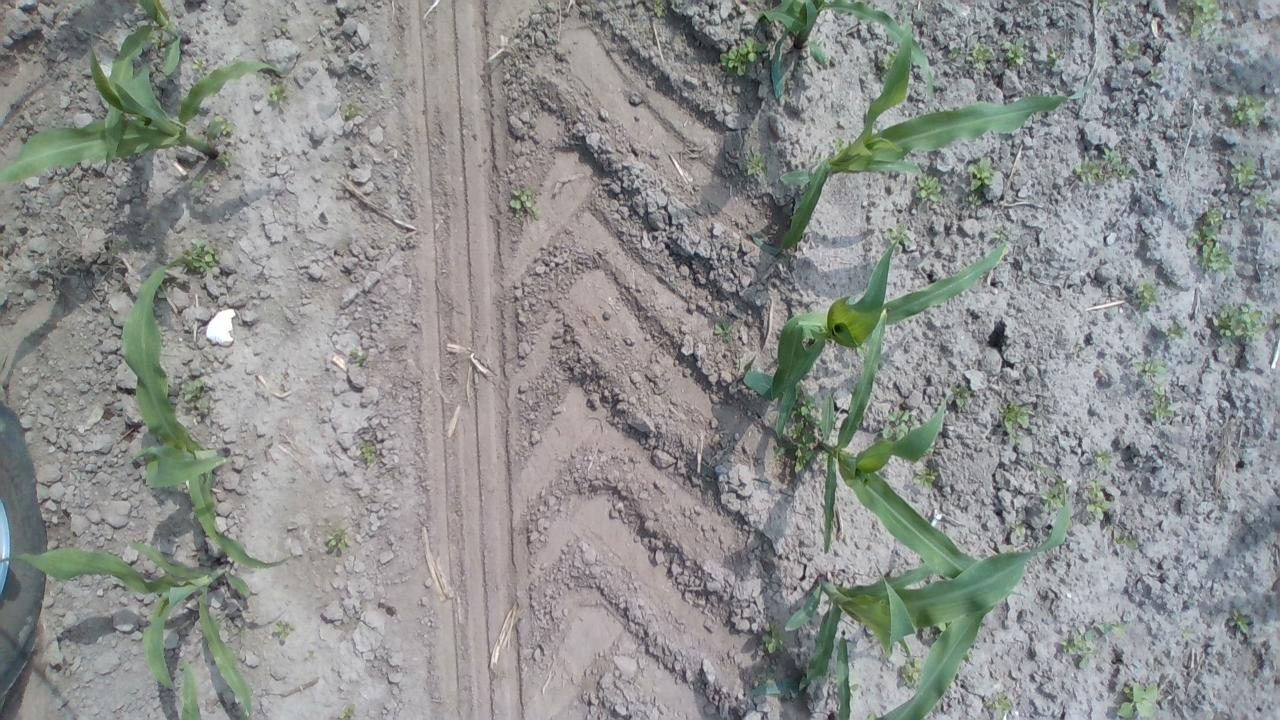Maize: (750, 5, 1099, 257), (754, 457, 1074, 696), (818, 308, 1026, 598), (741, 226, 1008, 438), (120, 256, 293, 569), (0, 539, 255, 720), (0, 44, 284, 187), (829, 605, 996, 720), (756, 0, 934, 101), (105, 0, 193, 176), (175, 657, 203, 720)
Weeds: (1060, 618, 1132, 674), (1184, 202, 1232, 276), (1212, 299, 1271, 343), (1072, 144, 1133, 184), (716, 34, 766, 77), (1117, 677, 1162, 720), (1176, 1, 1224, 40), (774, 434, 820, 474), (1226, 92, 1268, 130), (188, 238, 221, 276), (1085, 478, 1111, 520), (1131, 356, 1167, 386), (508, 186, 538, 222), (968, 153, 996, 190), (880, 406, 910, 439), (1150, 384, 1176, 422), (1130, 276, 1158, 311), (1230, 157, 1258, 192), (1001, 400, 1033, 430), (759, 620, 788, 652), (796, 388, 820, 426), (1000, 38, 1026, 70), (970, 40, 996, 72), (914, 174, 942, 202), (986, 690, 1012, 720), (1111, 526, 1140, 552), (910, 468, 941, 492), (1040, 486, 1066, 514), (1229, 604, 1252, 634), (182, 377, 207, 402), (273, 619, 298, 644), (324, 528, 352, 550), (903, 656, 922, 687), (746, 150, 770, 174), (1091, 444, 1114, 469), (1163, 322, 1190, 343), (947, 386, 970, 409), (886, 224, 912, 243), (339, 102, 365, 120), (268, 83, 290, 104), (214, 116, 234, 137), (714, 320, 733, 342), (348, 346, 368, 366), (1122, 39, 1140, 60), (360, 439, 376, 462), (1146, 66, 1166, 84), (190, 56, 207, 77), (879, 46, 894, 67), (338, 703, 355, 720), (193, 173, 209, 191), (834, 132, 846, 154), (151, 34, 167, 50), (1014, 518, 1028, 536), (968, 192, 982, 210), (1254, 190, 1266, 210), (1008, 431, 1024, 446), (218, 152, 234, 166), (788, 422, 802, 438), (1047, 47, 1060, 64), (194, 400, 212, 412), (992, 224, 1004, 242), (946, 45, 961, 59), (756, 669, 772, 680), (1182, 626, 1194, 640), (651, 0, 663, 14), (304, 648, 314, 662), (152, 218, 164, 228), (1098, 0, 1110, 7), (282, 22, 288, 33)
